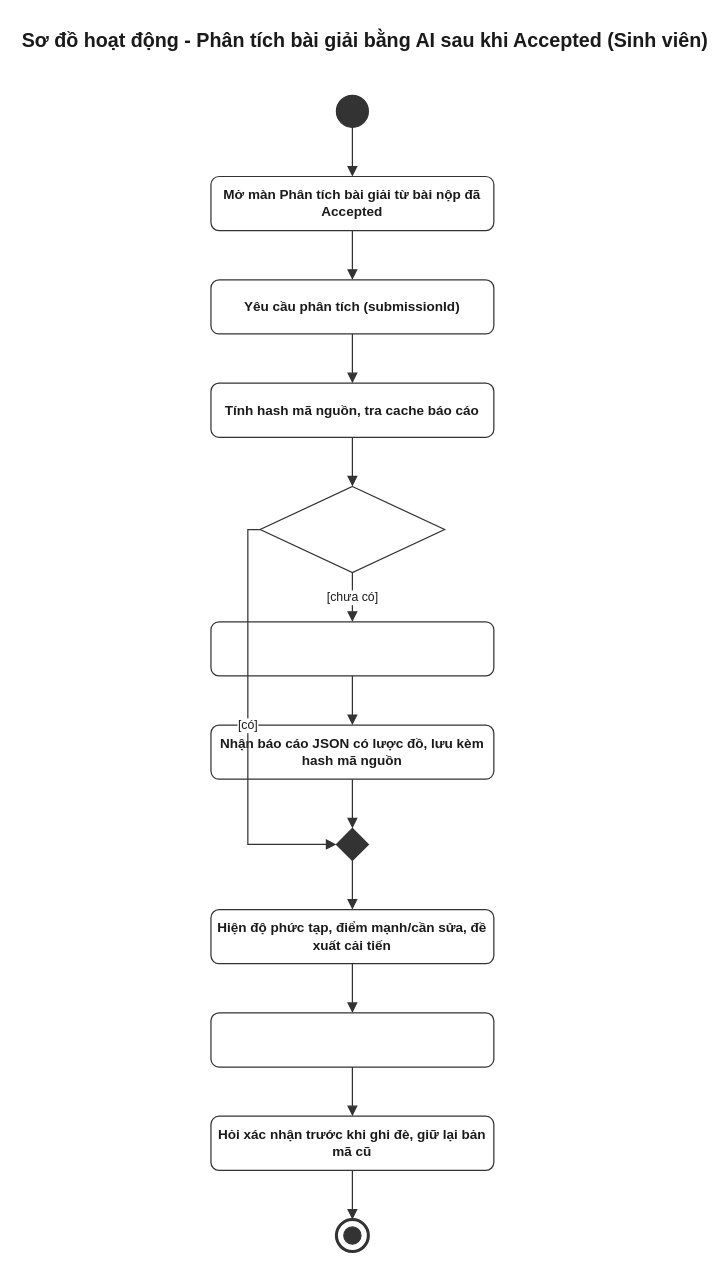
This 728x1274 diagram has some shape labels left out. Each missing label, with the centre of its shape:
Bấm Áp bản đề xuất vào Workspace: the point at 352,1039
Gửi mã nguồn (tham số dữ liệu) + prompt phân tích cho LLM: the point at 352,648
Đã có báo cáo cache theo hash mã nguồn?: the point at 352,529
